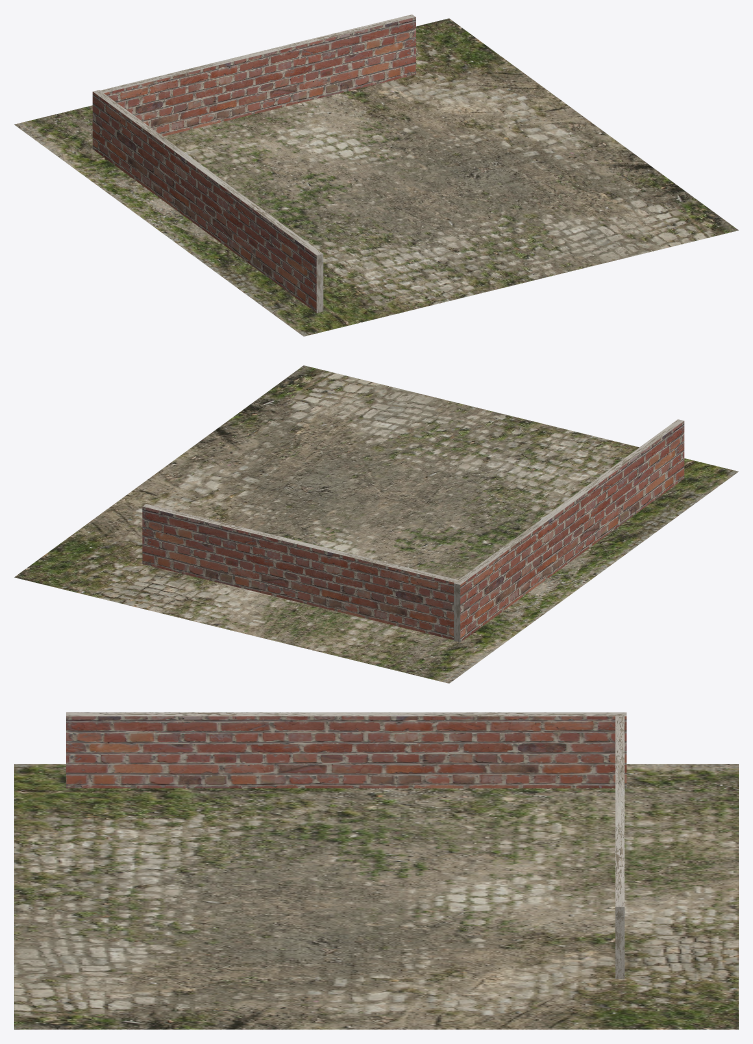
Rendered from Terrain.obj.
The picture shows the model from 3 angles, top to bottom: view 1: azimuth 30°, elevation 25°; view 2: azimuth 150°, elevation 25°; view 3: azimuth 270°, elevation 25°; orthographic projection. The views are drawn at different scales.
Visible parts, largest first — view 1: pPlane1, pCube2, pCube1; view 2: pPlane1, pCube2, pCube1; view 3: pPlane1, pCube1, pCube2.
Boxes of the visible parts, left/top/right/bottom form: pPlane1: left=14, top=18, right=738, bottom=336; pCube2: left=98, top=14, right=415, bottom=136; pCube1: left=92, top=90, right=323, bottom=312; pPlane1: left=14, top=365, right=738, bottom=683; pCube2: left=142, top=504, right=458, bottom=639; pCube1: left=454, top=419, right=684, bottom=642; pPlane1: left=14, top=764, right=738, bottom=1029; pCube1: left=66, top=712, right=626, bottom=788; pCube2: left=615, top=715, right=624, bottom=978.
Bounding box in the file's own units: 162 × 20.55 × 187.
Materials: 2 (2 with a texture image).
